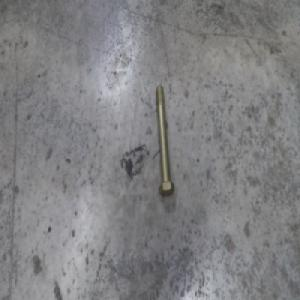Bolt: (153, 84, 174, 197)
